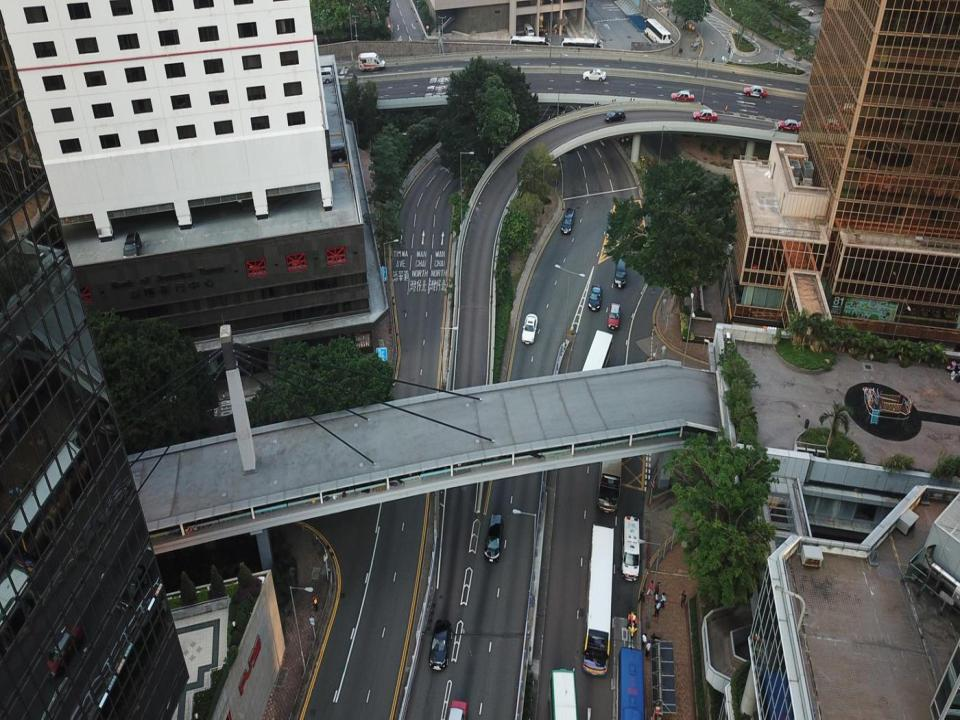bus: (13, 441, 96, 570), (580, 526, 615, 674), (2, 569, 38, 667), (594, 437, 624, 514)
car: (47, 623, 84, 676), (428, 619, 450, 669), (641, 14, 672, 48), (484, 511, 503, 564), (120, 232, 142, 265), (520, 314, 538, 346), (560, 206, 576, 238), (741, 82, 767, 101), (588, 284, 604, 314), (607, 301, 624, 329), (446, 698, 468, 719), (582, 69, 610, 84), (692, 109, 721, 123), (604, 108, 628, 123), (670, 90, 696, 103)
van: (548, 669, 580, 719), (622, 513, 638, 580), (355, 49, 390, 73), (612, 250, 630, 290), (310, 64, 336, 87), (522, 19, 534, 40)
